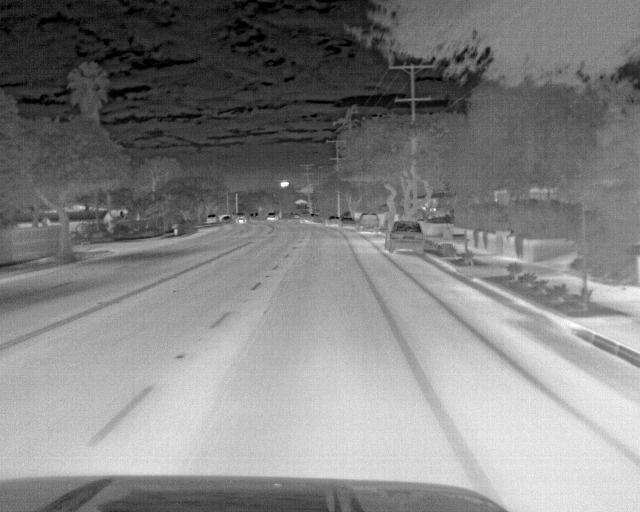car: (382, 219, 425, 255), (354, 211, 381, 233), (338, 213, 356, 228), (324, 213, 342, 228), (205, 212, 221, 226), (234, 211, 249, 225), (267, 209, 281, 222), (219, 213, 232, 226)
